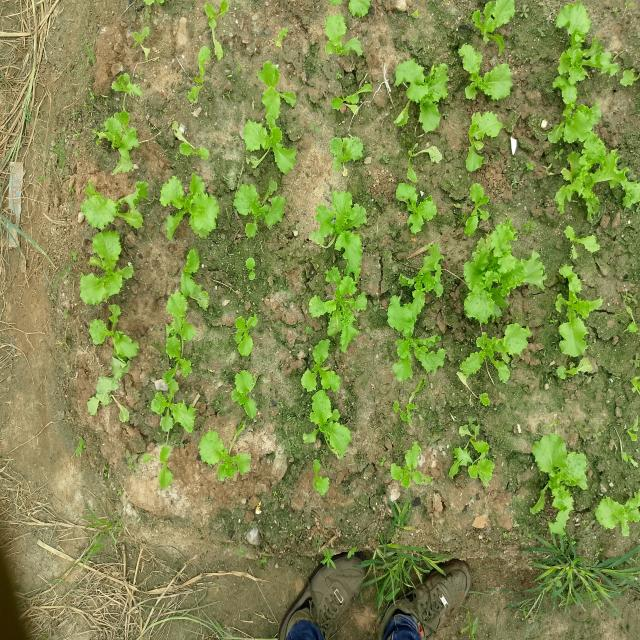Lettuce: (457, 223, 542, 323), (561, 132, 628, 235), (523, 431, 582, 535), (382, 290, 445, 376), (154, 248, 232, 308), (292, 274, 366, 337), (544, 75, 612, 142), (158, 170, 225, 234), (76, 242, 140, 306), (455, 43, 519, 107), (398, 51, 446, 129), (84, 301, 142, 364), (196, 428, 257, 486), (236, 115, 298, 172), (310, 198, 364, 263), (387, 178, 452, 232), (310, 7, 369, 65), (459, 334, 538, 377), (296, 400, 355, 457), (449, 423, 502, 484), (293, 338, 341, 399), (234, 182, 292, 232), (389, 444, 438, 498), (149, 370, 192, 430), (93, 111, 144, 160), (226, 366, 268, 415), (593, 498, 640, 540), (463, 111, 502, 147)
